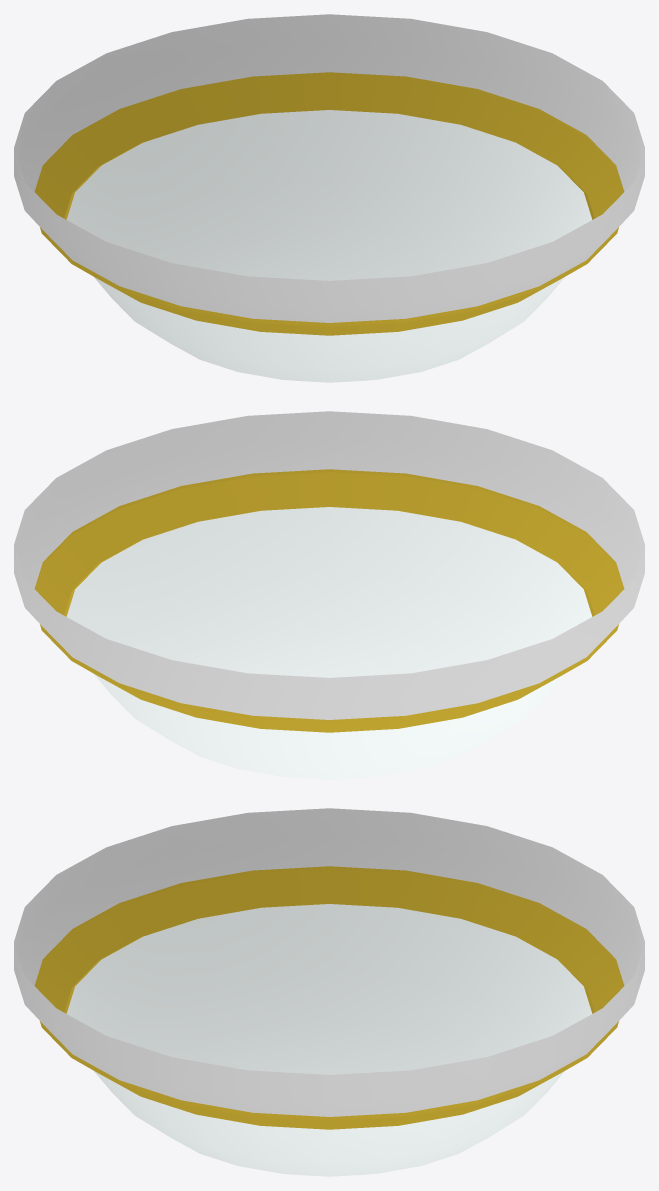
File: FP306:LightFixture4_32ad28eb.obj
3 renders of one model, top to bottom at view 1: azimuth 30°, elevation 25°; view 2: azimuth 150°, elevation 25°; view 3: azimuth 270°, elevation 25°, orthographic.
Visible parts, largest first — view 1: FP306:LightFixture4_32ad28eb; view 2: FP306:LightFixture4_32ad28eb; view 3: FP306:LightFixture4_32ad28eb.
Part boxes in pixels (x1,y1,x2,y2): FP306:LightFixture4_32ad28eb: (14,14,644,382); FP306:LightFixture4_32ad28eb: (14,411,644,779); FP306:LightFixture4_32ad28eb: (14,808,644,1176).
Size of the model in its own units: 0.4 by 0.1295 by 0.4.
